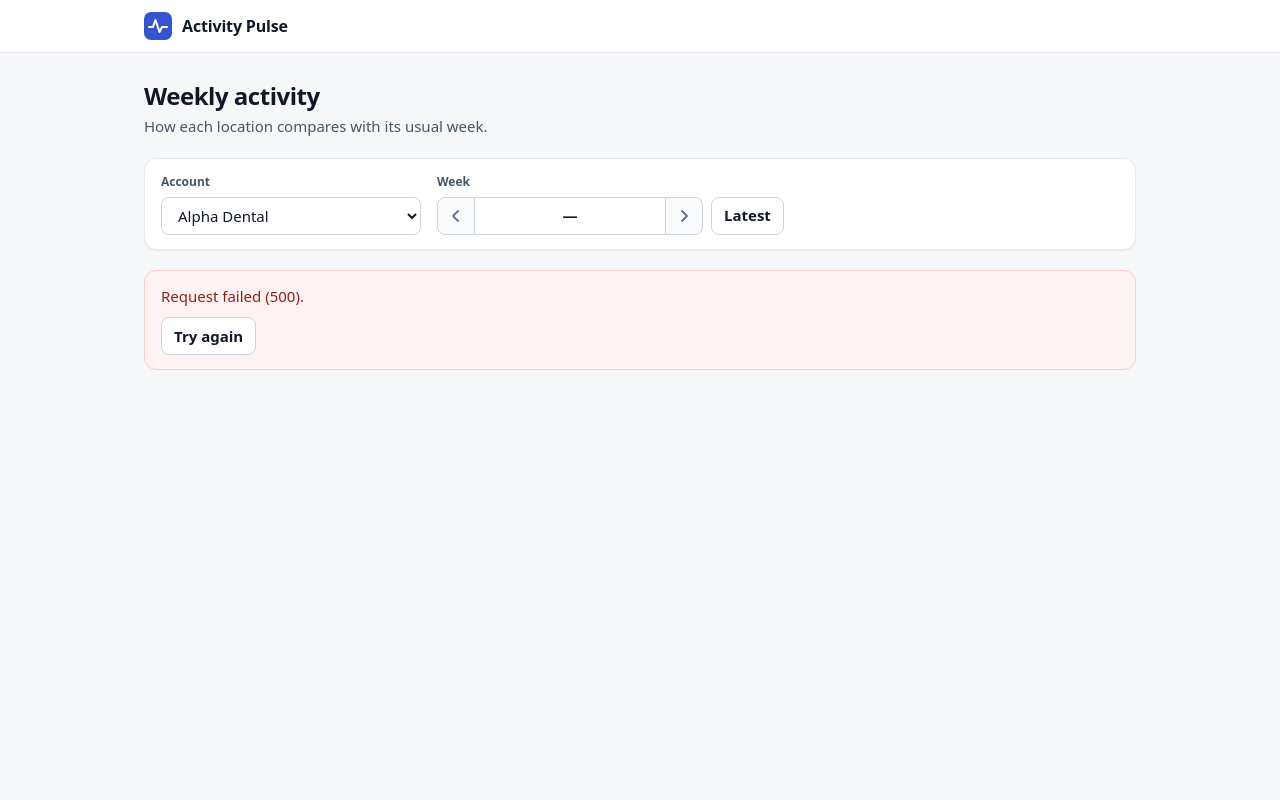
Scenario: loading and errors › shows a server error and recovers with Try again
Check: the message shows "Request failed (500).", box [161, 286, 304, 306]
Click the button "Try again": (209, 336) [161, 317, 256, 355]
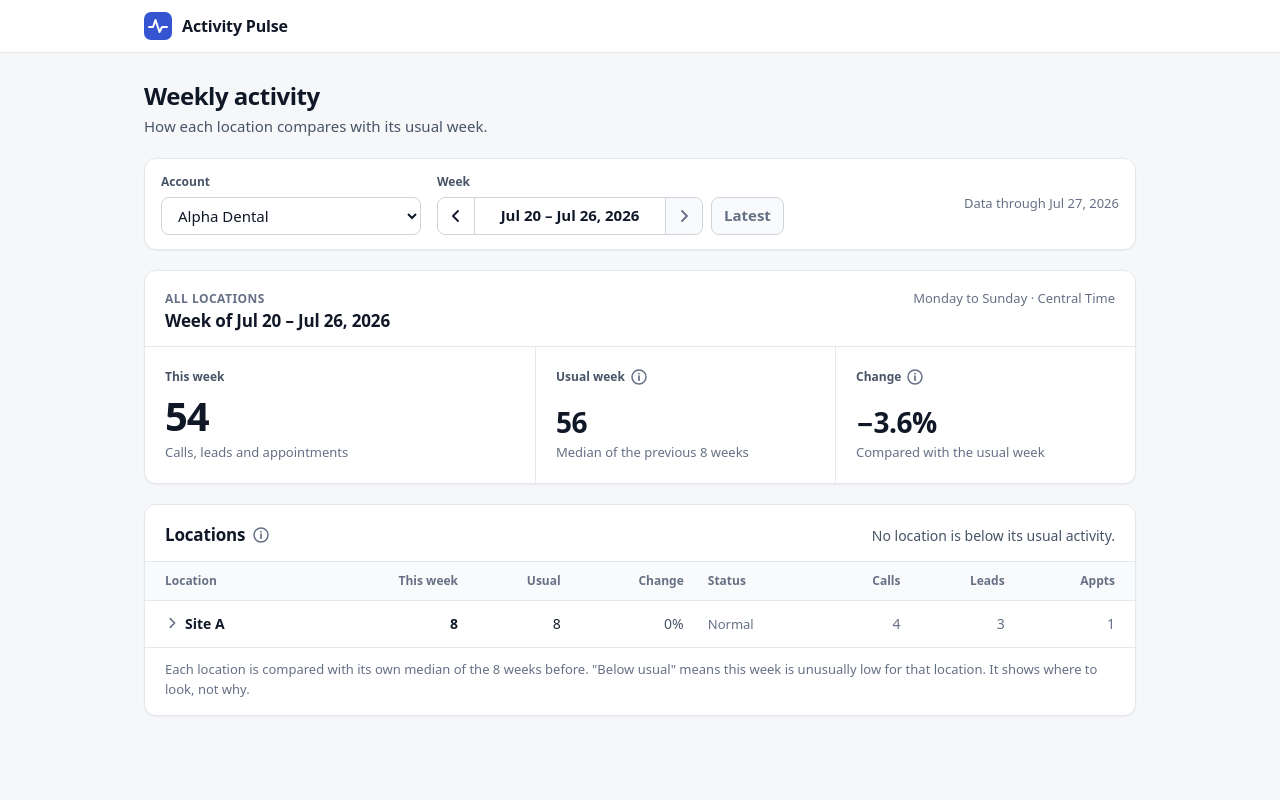
Check: the heading "Week of Jul 20 – Jul 26, 2026" is shown, box [165, 310, 390, 332]
